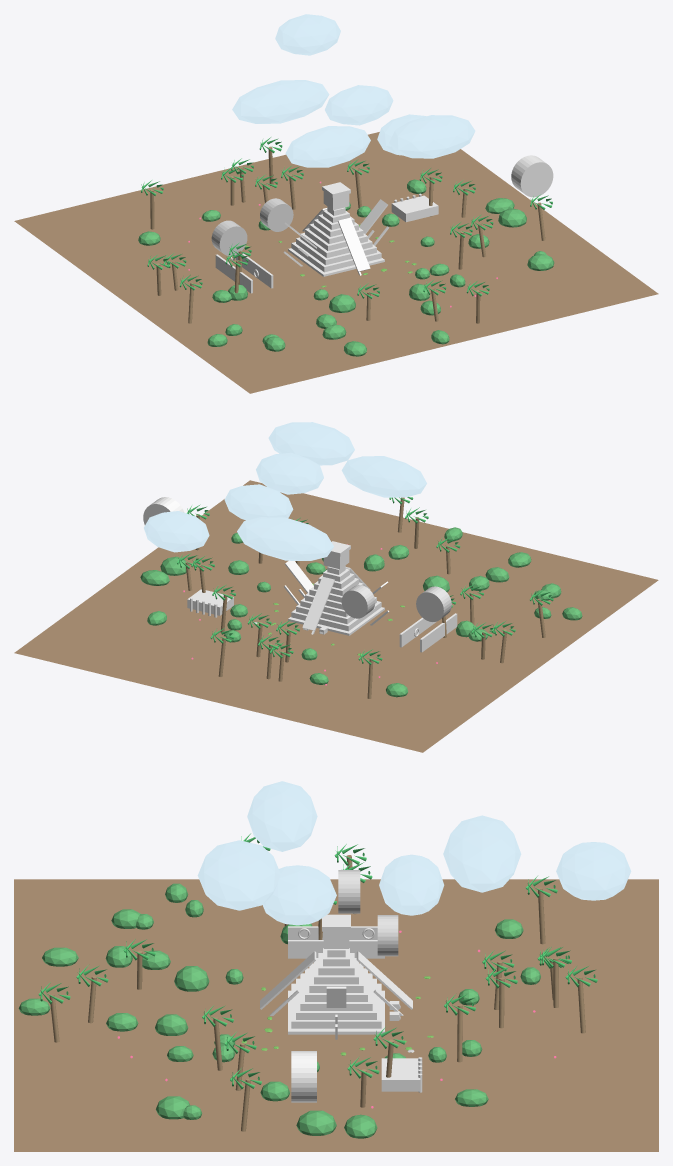
The model's file is ChichenItza.glb.
3 renders of one model, top to bottom at view 1: azimuth 30°, elevation 25°; view 2: azimuth 150°, elevation 25°; view 3: azimuth 270°, elevation 25°, orthographic. The views are drawn at different scales.
Parts seen in each view (by area): view 1: Plaza_Ground, Cloud_1, Cloud_5, Cloud_2, Cloud_3, Cloud_4, Arch_Constantine_Opening, Arch_Septimius_Opening, Arch_Titus_Opening, Warriors_Temple_Base, Stairway_2, Cloud_0 (+1 smaller); view 2: Plaza_Ground, Cloud_1, Cloud_5, Cloud_2, Cloud_0, Cloud_4, Cloud_3, Arch_Septimius_Opening, Arch_Titus_Opening, Stairway_0, Warriors_Temple_Base, Ball_Court_West (+2 smaller); view 3: Plaza_Ground, Cloud_1, Cloud_5, Cloud_2, Cloud_4, Cloud_0, Cloud_3, Arch_Constantine_Opening, Warriors_Temple_Base, Pyramid_Level_0, Ball_Court_East, Pyramid_Level_1 (+16 smaller).
Boxes of the visible parts, x1=… form: Plaza_Ground: x1=14, y1=132, x2=658, y2=393; Cloud_1: x1=232, y1=80, x2=329, y2=123; Cloud_5: x1=389, y1=115, x2=475, y2=158; Cloud_2: x1=285, y1=126, x2=370, y2=167; Cloud_3: x1=325, y1=85, x2=393, y2=125; Cloud_4: x1=275, y1=14, x2=340, y2=55; Arch_Constantine_Opening: x1=511, y1=155, x2=553, y2=197; Arch_Septimius_Opening: x1=211, y1=220, x2=247, y2=256; Arch_Titus_Opening: x1=260, y1=198, x2=293, y2=231; Warriors_Temple_Base: x1=391, y1=195, x2=438, y2=222; Stairway_2: x1=338, y1=217, x2=370, y2=271; Cloud_0: x1=377, y1=114, x2=426, y2=155; Plaza_Ground: x1=14, y1=480, x2=658, y2=752; Cloud_1: x1=237, y1=517, x2=333, y2=560; Cloud_5: x1=268, y1=422, x2=354, y2=465; Cloud_2: x1=341, y1=456, x2=426, y2=497; Cloud_0: x1=256, y1=452, x2=323, y2=494; Cloud_4: x1=144, y1=511, x2=209, y2=552; Cloud_3: x1=224, y1=484, x2=293, y2=520; Arch_Septimius_Opening: x1=416, y1=586, x2=451, y2=621; Arch_Titus_Opening: x1=341, y1=585, x2=375, y2=618; Stairway_0: x1=302, y1=576, x2=334, y2=630; Warriors_Temple_Base: x1=187, y1=589, x2=233, y2=615; Ball_Court_West: x1=420, y1=613, x2=457, y2=652; Plaza_Ground: x1=14, y1=879, x2=658, y2=1151; Cloud_1: x1=443, y1=815, x2=521, y2=892; Cloud_5: x1=197, y1=840, x2=280, y2=910; Cloud_2: x1=247, y1=781, x2=317, y2=851; Cloud_4: x1=556, y1=842, x2=631, y2=900; Cloud_0: x1=262, y1=865, x2=336, y2=925; Cloud_3: x1=379, y1=854, x2=444, y2=915; Arch_Constantine_Opening: x1=291, y1=1051, x2=316, y2=1102; Warriors_Temple_Base: x1=381, y1=1058, x2=420, y2=1091; Pyramid_Level_0: x1=291, y1=983, x2=381, y2=1028; Ball_Court_East: x1=288, y1=940, x2=384, y2=958; Pyramid_Level_1: x1=296, y1=978, x2=376, y2=1019.
Size of the model in its own units: 100 by 38.91 by 100.
